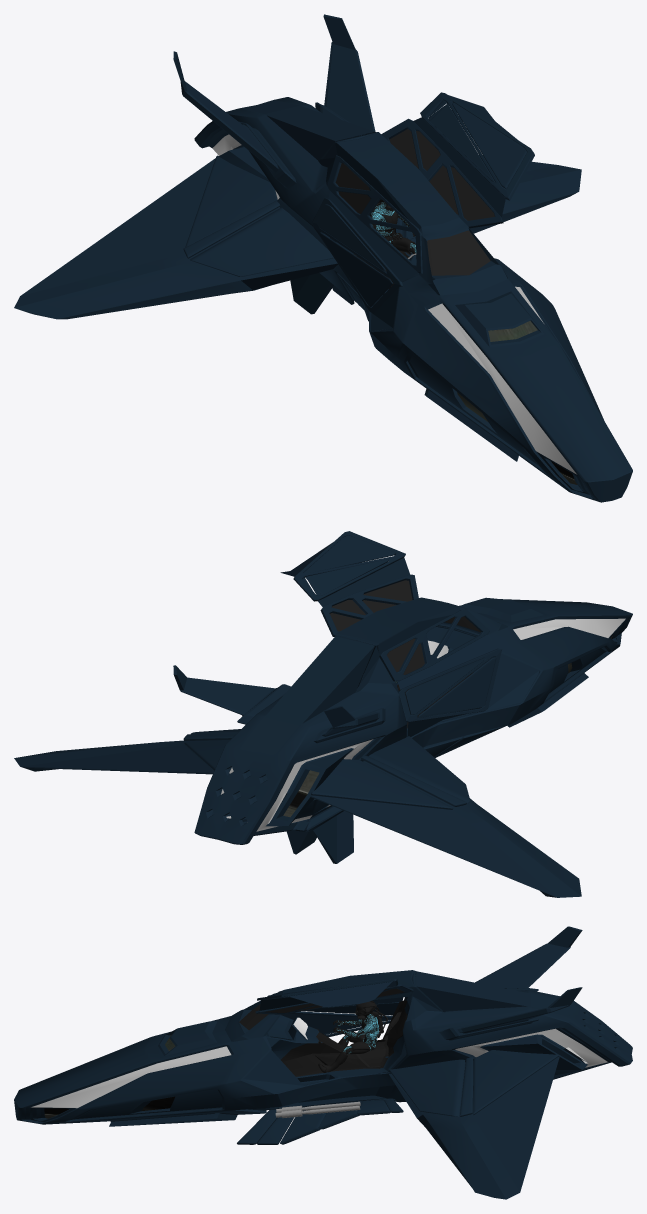
The model's file is Rapid Shadow.fbx.
3 views of the same model, one above another, from view 1: azimuth 30°, elevation 25°; view 2: azimuth 150°, elevation 25°; view 3: azimuth 270°, elevation 25° (orthographic). The views are drawn at different scales.
Visible parts, largest first — view 1: hull, door 1, armor 1, door 2, space pilot; view 2: hull, door 2, armor 1, door 1, hatch latch 2; view 3: hull, armor 1, hatch latch 1, door 1, space pilot, door 2.
Boxes of the visible parts, x1=… form: hull: x1=14, y1=14, x2=632, y2=502; door 1: x1=381, y1=92, x2=534, y2=228; armor 1: x1=183, y1=155, x2=415, y2=276; door 2: x1=312, y1=155, x2=422, y2=313; space pilot: x1=370, y1=199, x2=416, y2=287; hull: x1=14, y1=597, x2=632, y2=897; door 2: x1=379, y1=609, x2=502, y2=736; armor 1: x1=183, y1=729, x2=470, y2=809; door 1: x1=280, y1=531, x2=418, y2=636; hatch latch 2: x1=423, y1=725, x2=507, y2=757; hull: x1=14, y1=926, x2=632, y2=1199; armor 1: x1=389, y1=1050, x2=558, y2=1116; hatch latch 1: x1=237, y1=1099, x2=403, y2=1144; door 1: x1=255, y1=979, x2=413, y2=1014; space pilot: x1=318, y1=1001, x2=388, y2=1072; door 2: x1=279, y1=991, x2=403, y2=1037.
Size of the model in its own units: 732 by 277 by 885.
